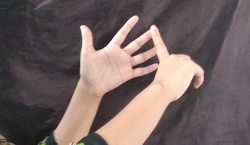u: (75, 12, 180, 97)
